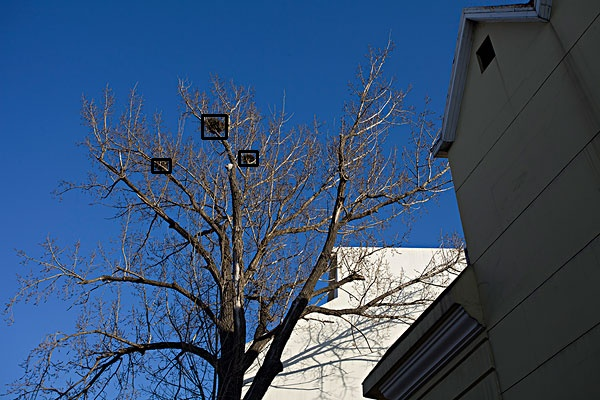bird-nest: (202, 115, 226, 138), (239, 151, 257, 165), (152, 159, 170, 172)
